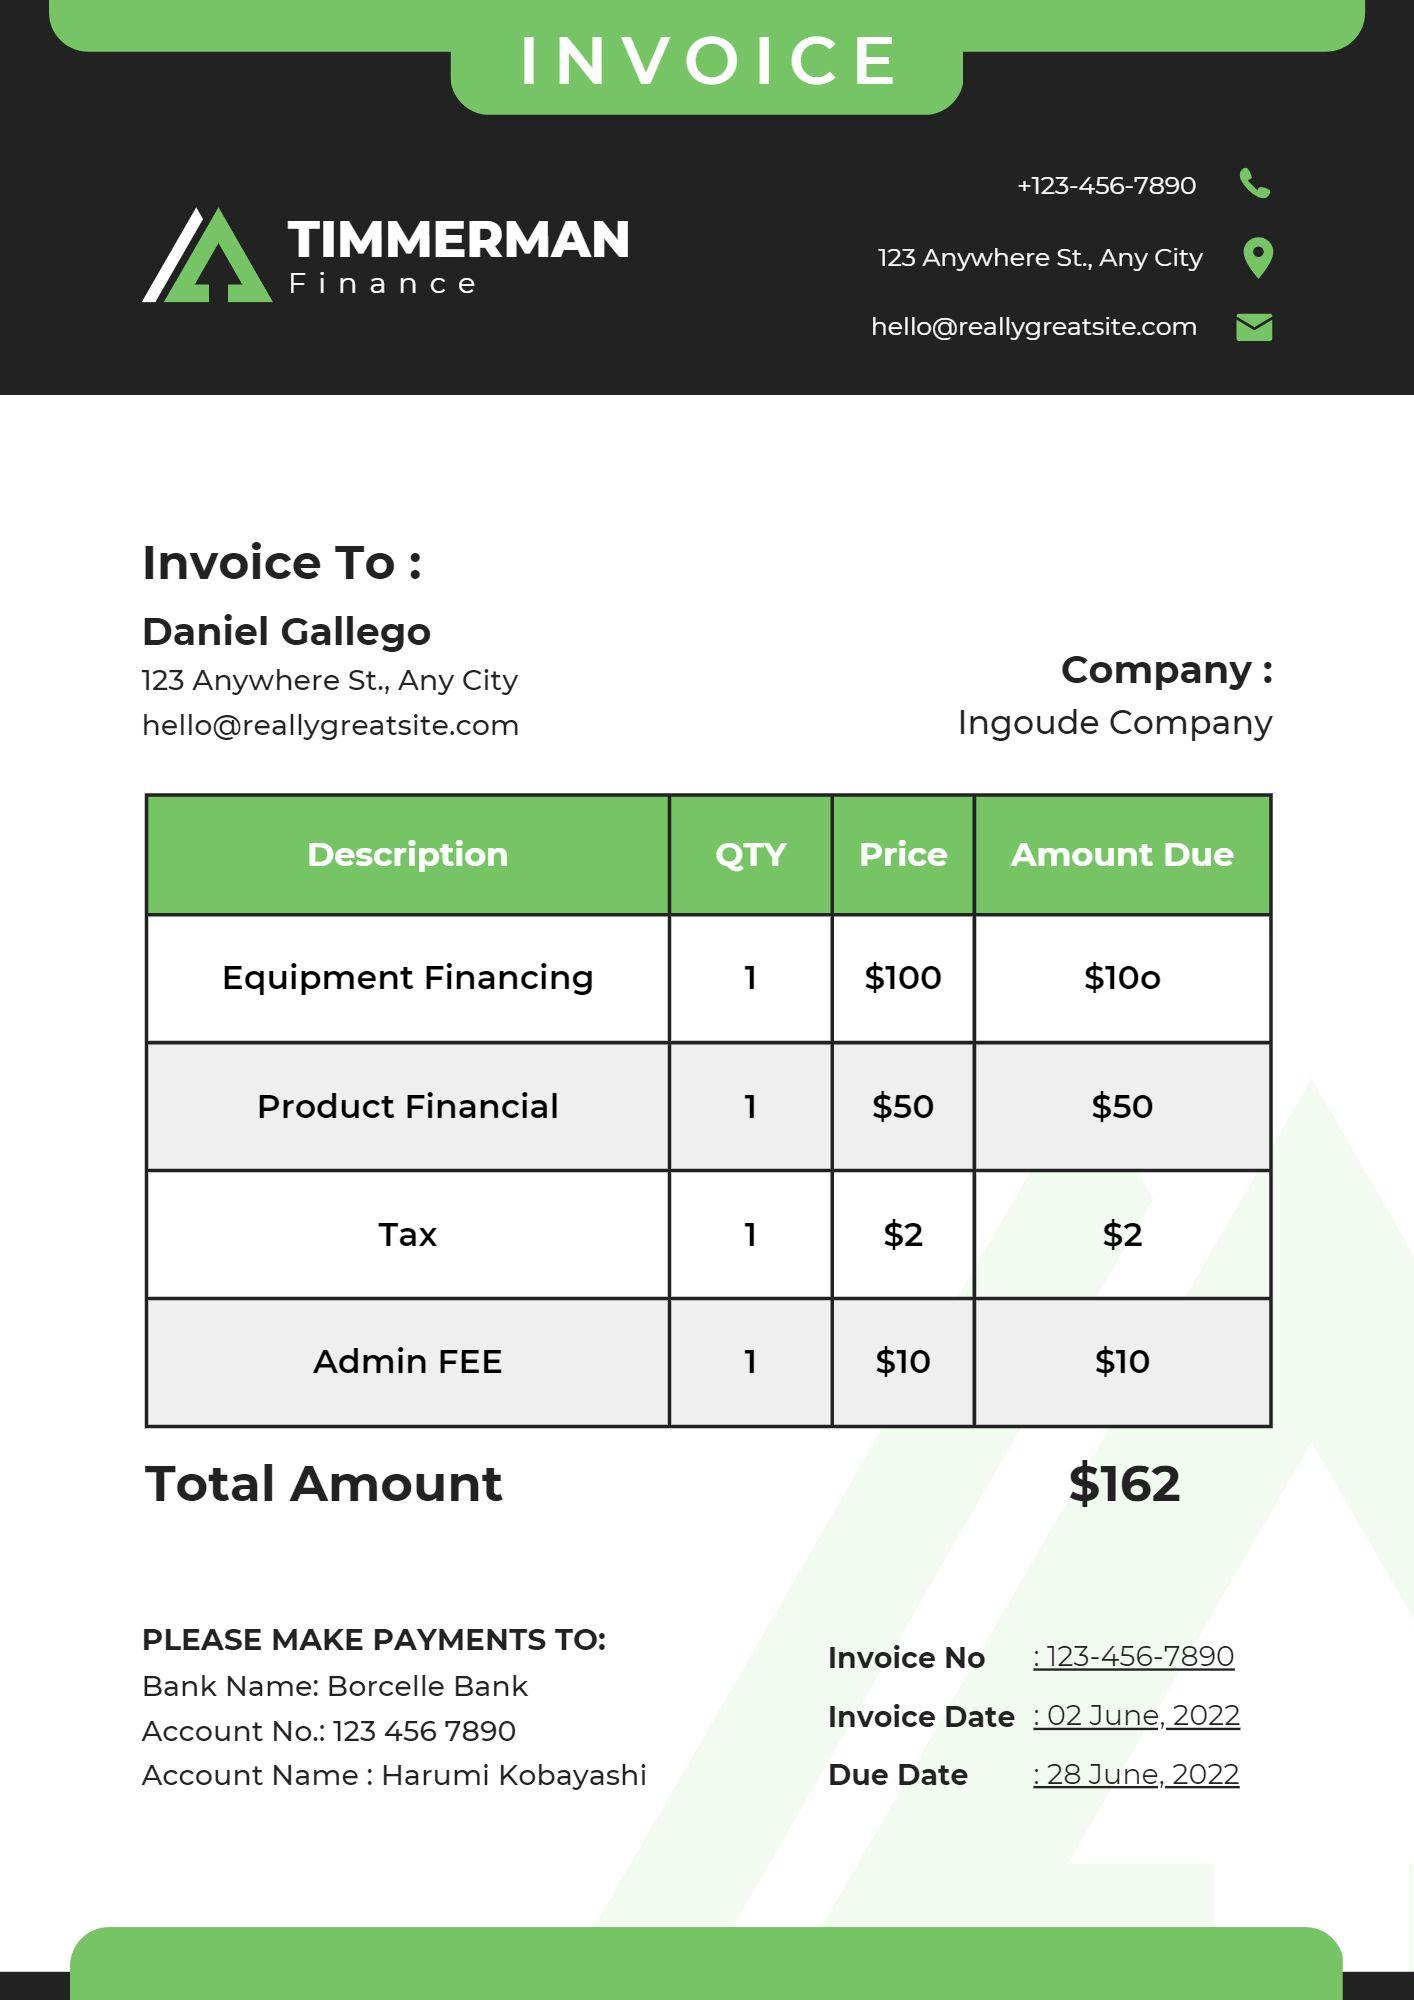ROI: (132, 788, 1282, 1445)
